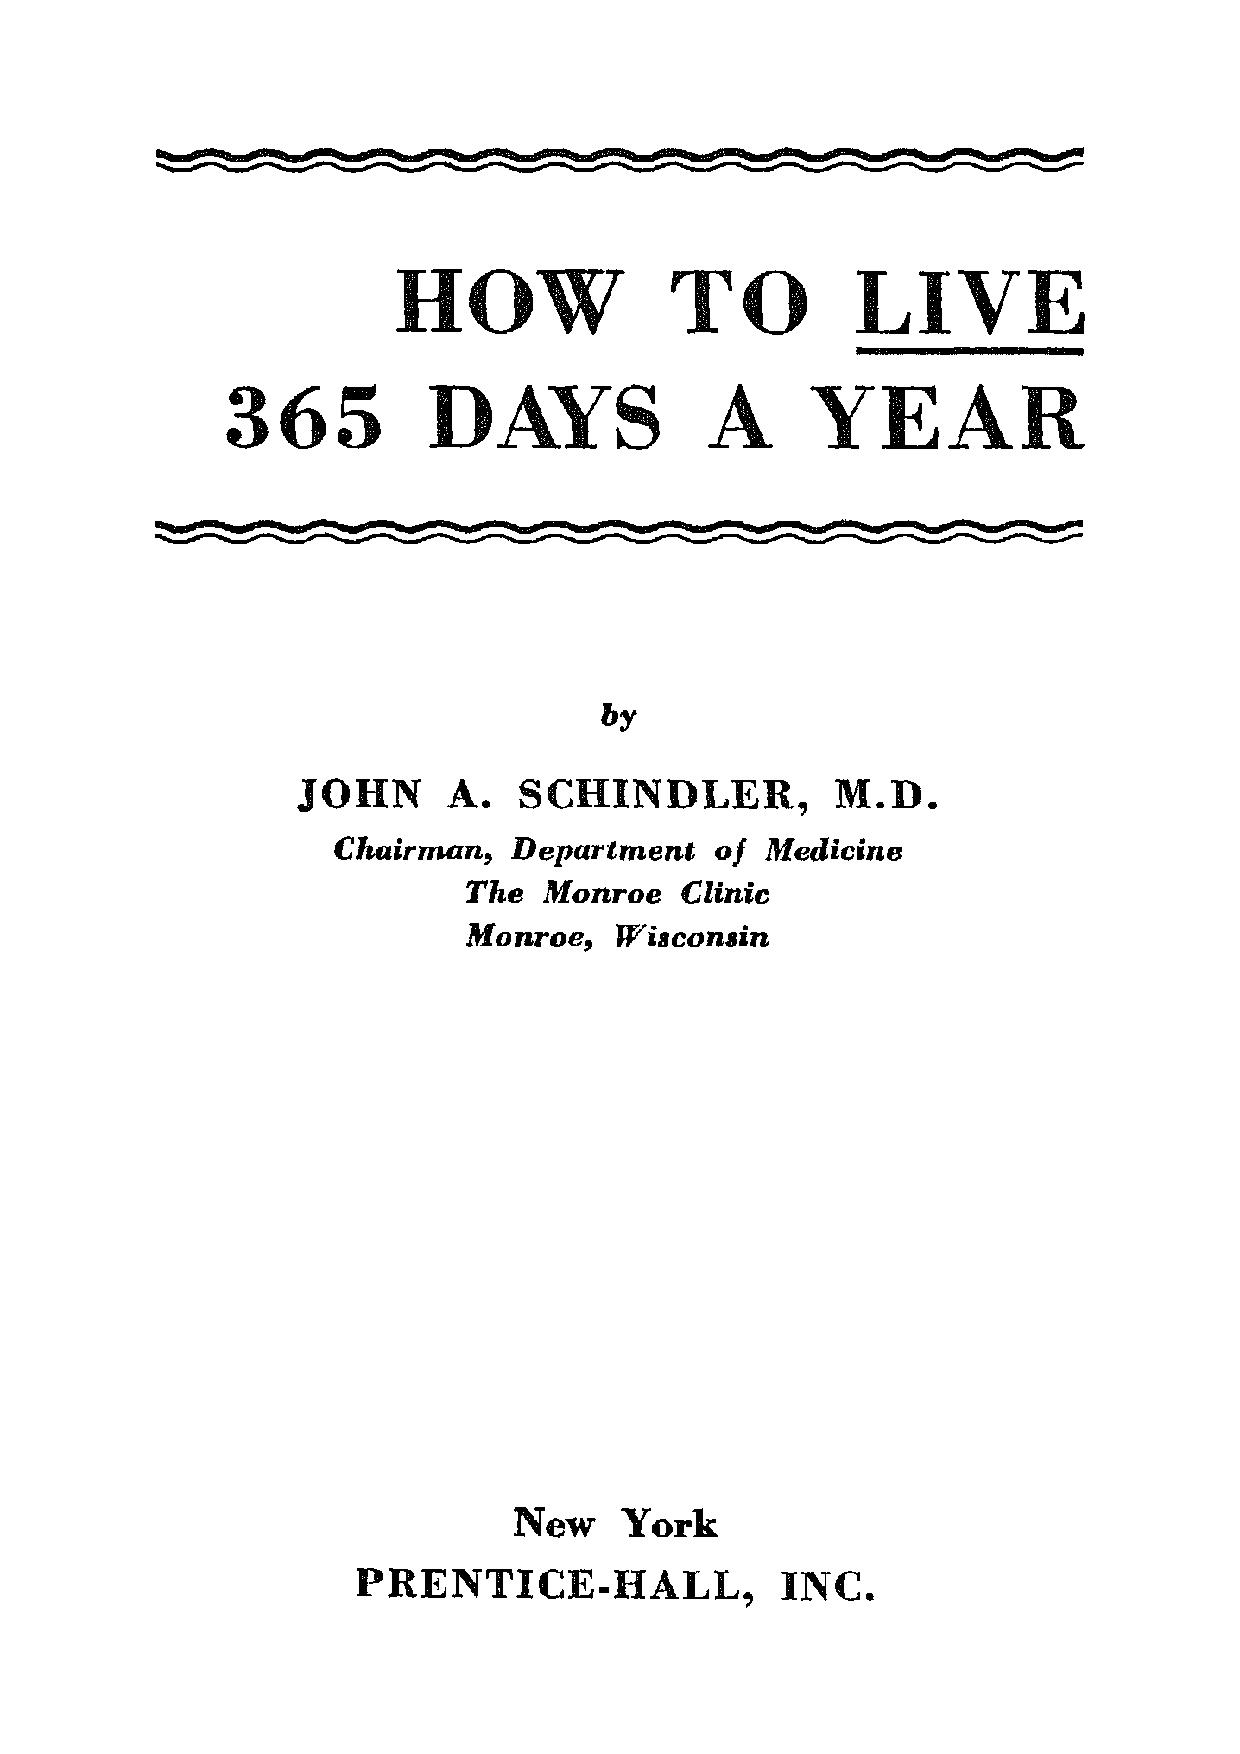author: (293, 698, 937, 815)
title: (224, 264, 1087, 451)
